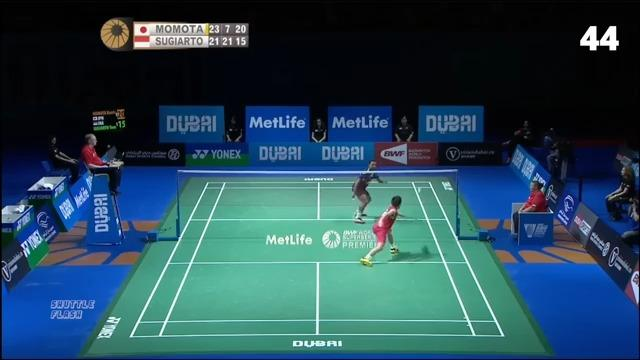Shuttlecock: (414, 184, 426, 197)
